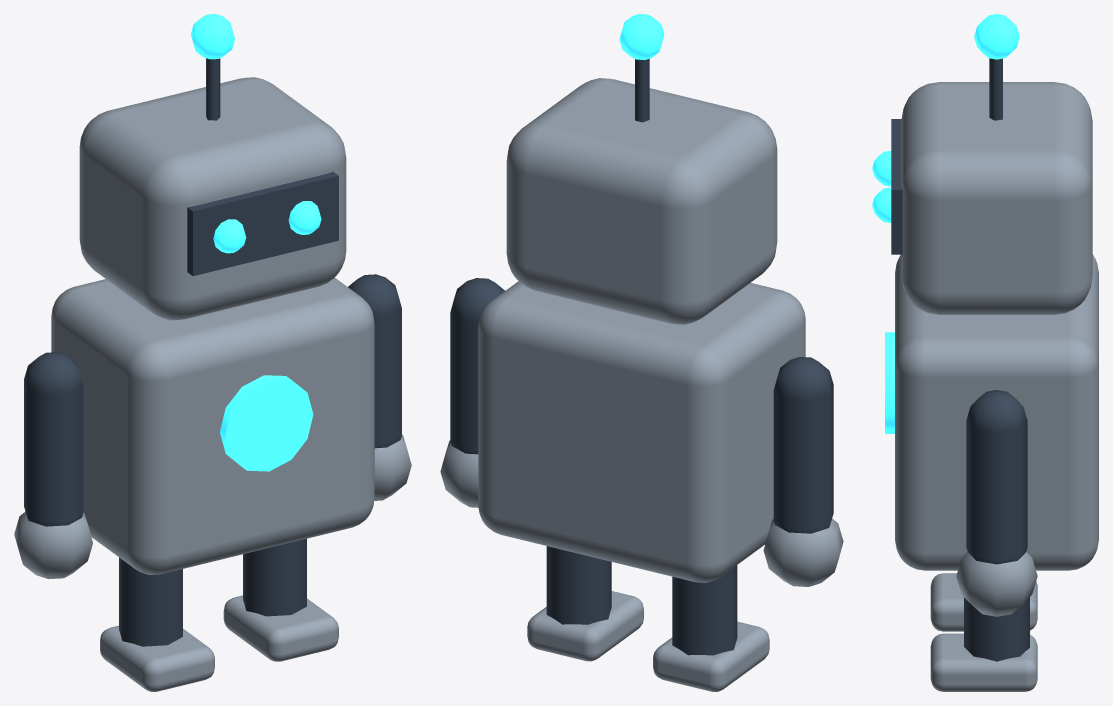
The picture shows the model from 3 angles, left to right: view 1: azimuth 30°, elevation 25°; view 2: azimuth 150°, elevation 25°; view 3: azimuth 270°, elevation 25°; orthographic projection.
Size of the model in its own units: 1.76 by 2.74 by 0.89.
